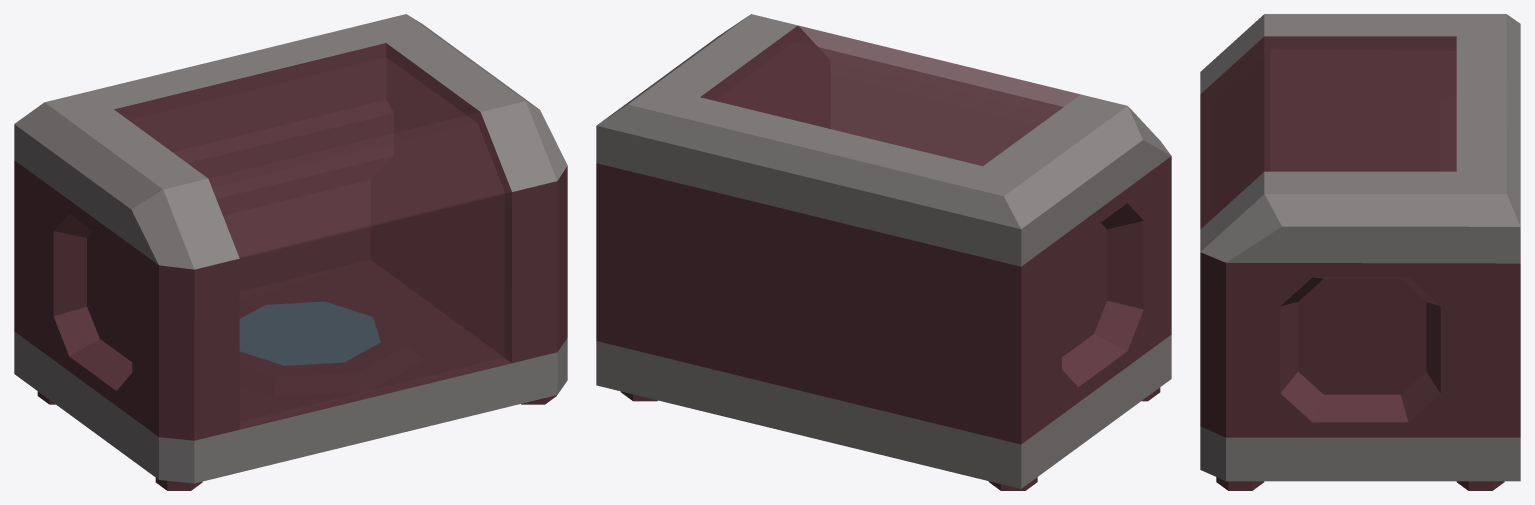
The model's file is scifi-printer-3D.fbx.
The picture shows the model from 3 angles, left to right: view 1: azimuth 30°, elevation 25°; view 2: azimuth 150°, elevation 25°; view 3: azimuth 270°, elevation 25°; orthographic projection. The views are drawn at different scales.
Parts seen in each view (by area): view 1: scifi-printer-3D; view 2: scifi-printer-3D; view 3: scifi-printer-3D.
Boxes of the visible parts, x1=… form: scifi-printer-3D: x1=14, y1=14, x2=567, y2=490; scifi-printer-3D: x1=596, y1=14, x2=1171, y2=490; scifi-printer-3D: x1=1200, y1=14, x2=1520, y2=490.
Size of the model in its own units: 1.5 by 1 by 1.
